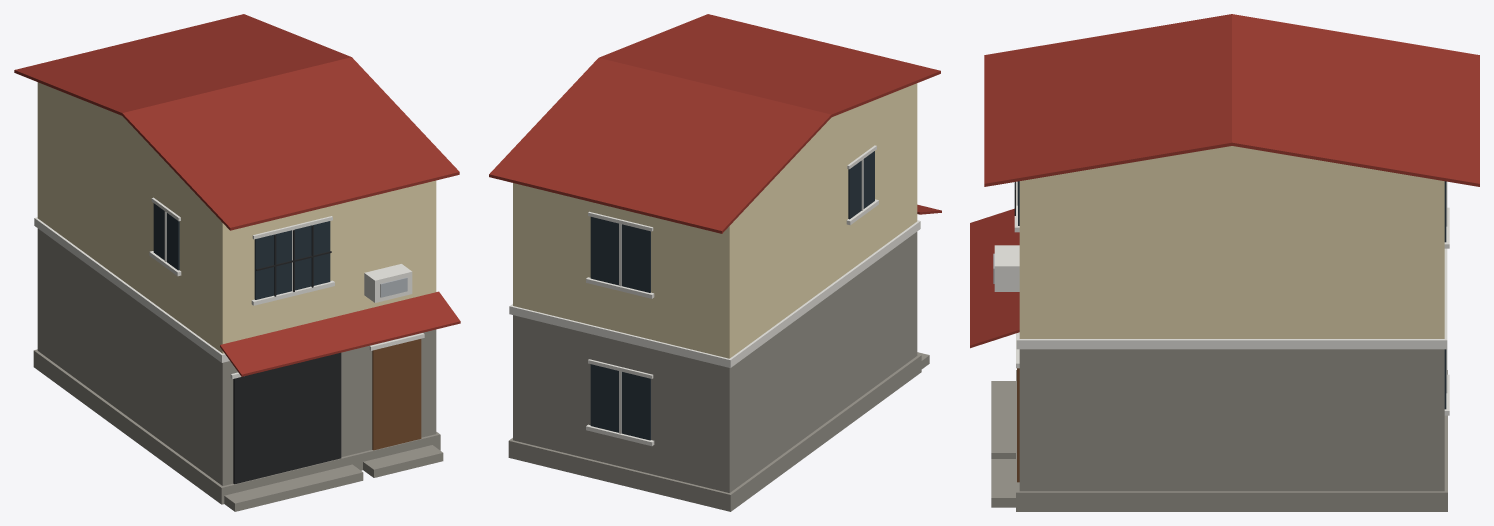
File: BAY_F_TwoStorey_T.glb
3 renders of one model, left to right at view 1: azimuth 30°, elevation 25°; view 2: azimuth 150°, elevation 25°; view 3: azimuth 270°, elevation 25°, orthographic. The views are drawn at different scales.
Visible parts, largest first — view 1: BAY_F_TwoStorey_T; view 2: BAY_F_TwoStorey_T; view 3: BAY_F_TwoStorey_T.
Boxes of the visible parts, x1,y1,x2,y2 form: BAY_F_TwoStorey_T: (14,14,460,511); BAY_F_TwoStorey_T: (489,14,941,511); BAY_F_TwoStorey_T: (970,14,1479,511).
Bounding box in the file's own units: 4.3 × 5.8 × 7.2.
1 material, 1 textured.
